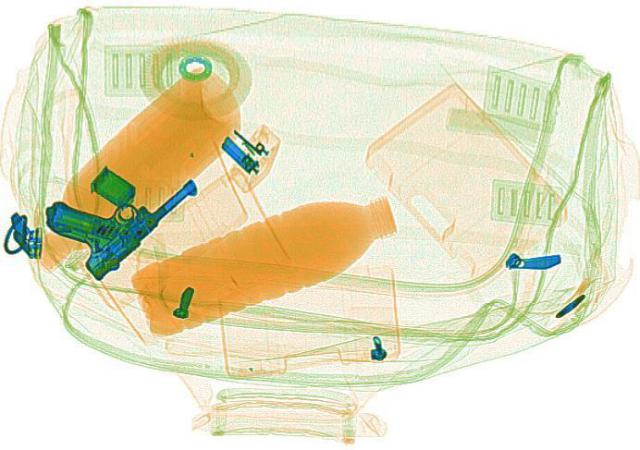Gun: (0, 153, 230, 291)
